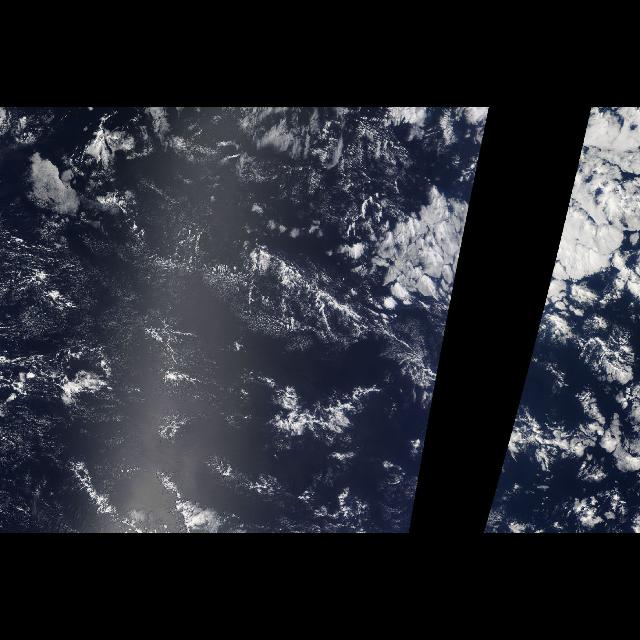Sugar: (1, 119, 390, 529)
